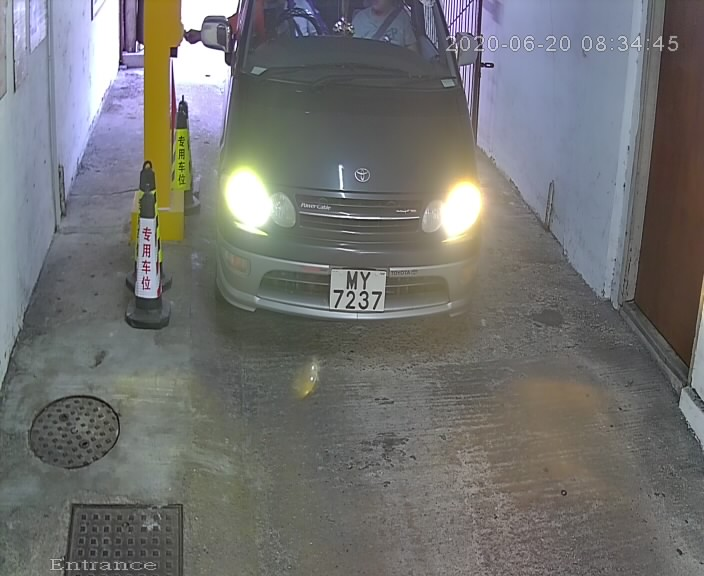privatecar: (195, 3, 490, 328)
